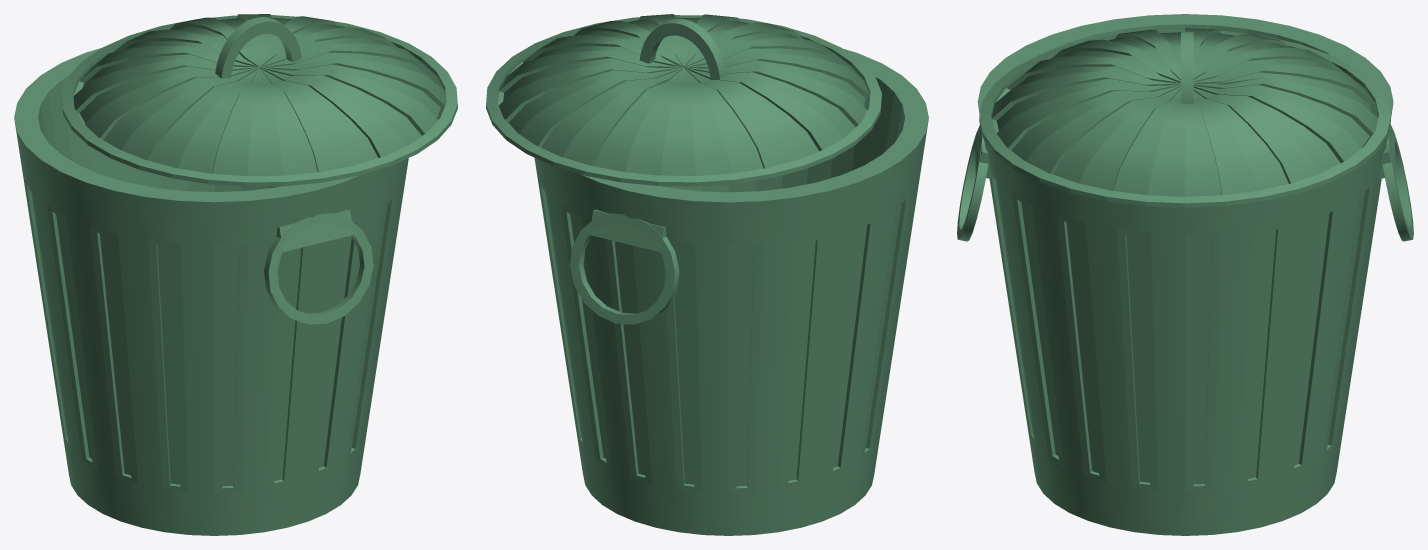
Rendered from 245df252-740a-4208-9fbd-2cba6517ea90.glb.
3 views of the same model, side by side, from view 1: azimuth 30°, elevation 25°; view 2: azimuth 150°, elevation 25°; view 3: azimuth 270°, elevation 25° (orthographic). The views are drawn at different scales.
Parts seen in each view (by area): view 1: Cylinder001, Sphere001, Tube002, Tube001, ChamferBox001; view 2: Cylinder001, Sphere001, Tube003, Tube001, ChamferBox002; view 3: Cylinder001, Sphere001, Tube003, Tube002, Tube001.
Boxes of the visible parts, box(x1,y1,x2,y2) form: Cylinder001: box(14, 48, 408, 535); Sphere001: box(61, 14, 457, 186); Tube002: box(264, 213, 373, 324); Tube001: box(215, 17, 301, 78); ChamferBox001: box(276, 209, 353, 251); Cylinder001: box(534, 48, 928, 535); Sphere001: box(486, 14, 881, 186); Tube003: box(570, 213, 679, 324); Tube001: box(639, 18, 726, 79); ChamferBox002: box(590, 209, 666, 252); Cylinder001: box(977, 14, 1393, 535); Sphere001: box(979, 28, 1390, 207); Tube003: box(1382, 125, 1413, 241); Tube002: box(957, 125, 988, 241); Tube001: box(1181, 32, 1193, 104).
Size of the model in its own units: 38 by 41.16 by 37.12.
